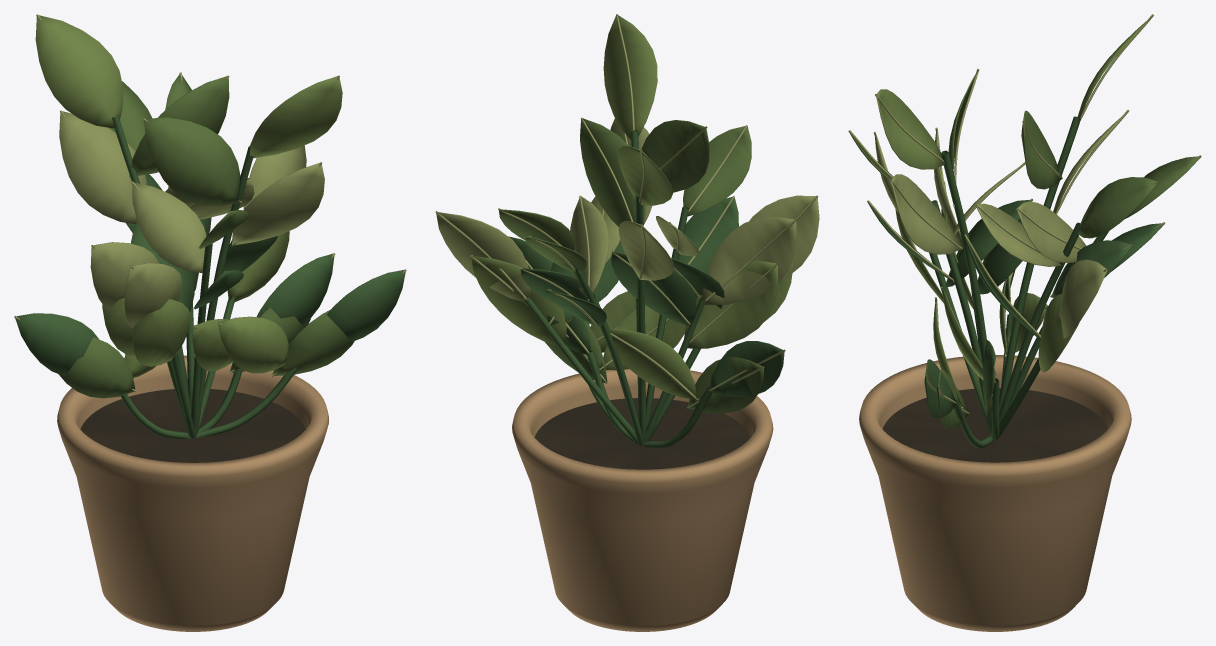
The model's file is plant.glb.
The picture shows the model from 3 angles, left to right: view 1: azimuth 30°, elevation 25°; view 2: azimuth 150°, elevation 25°; view 3: azimuth 270°, elevation 25°; orthographic projection. The views are drawn at different scales.
Parts seen in each view (by area): view 1: Atelier_Plant; view 2: Atelier_Plant; view 3: Atelier_Plant.
Boxes of the visible parts, left/top/right/bottom form: Atelier_Plant: left=14, top=14, right=406, bottom=631; Atelier_Plant: left=435, top=14, right=819, bottom=631; Atelier_Plant: left=848, top=14, right=1201, bottom=631.
Size of the model in its own units: 0.6196 by 0.9405 by 0.5518.
